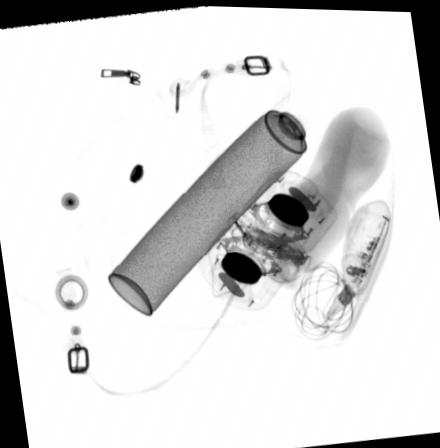Sprayer: (107, 84, 333, 317)
